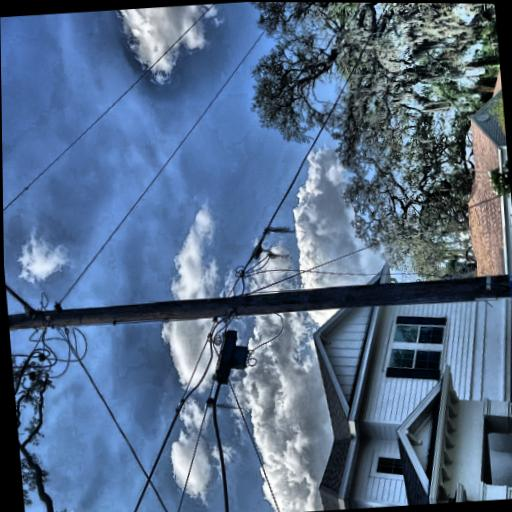pole: (56, 11, 127, 512)
street light: (74, 53, 190, 167)
transformer: (30, 49, 74, 126)
